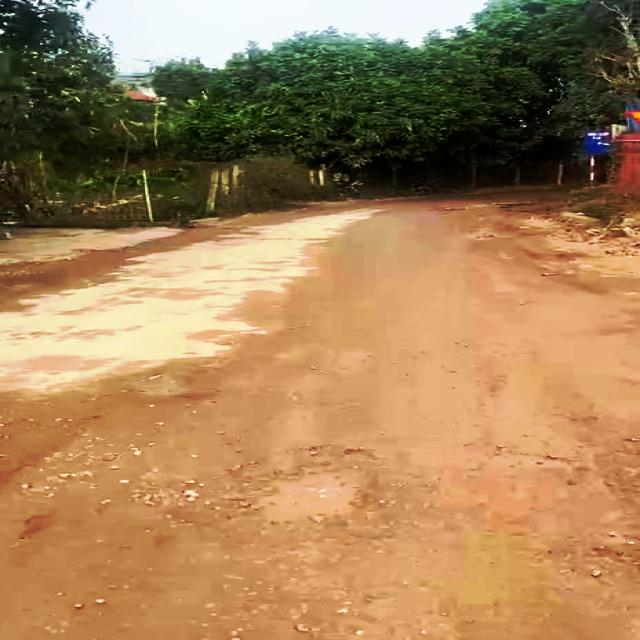pothole: (235, 451, 382, 528)
